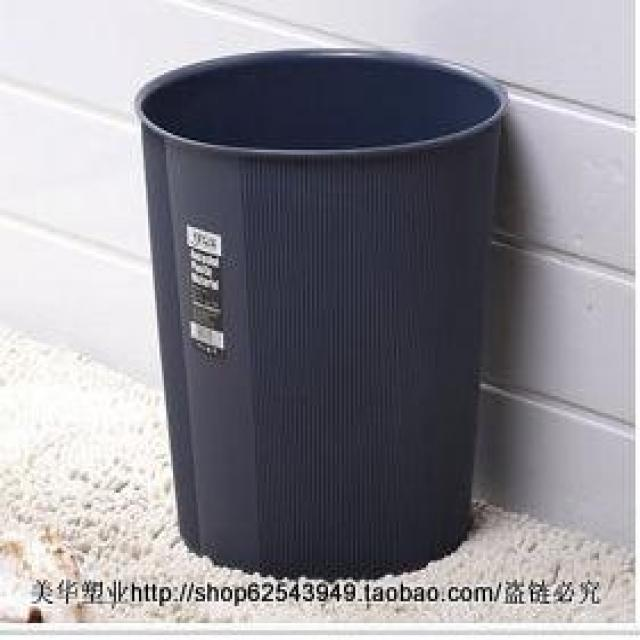dustbin: (131, 41, 511, 584)
